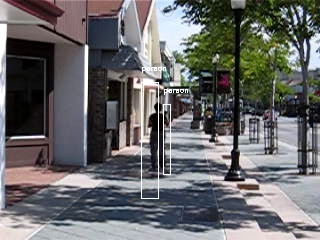person: (148, 104, 170, 172), (147, 104, 169, 172), (149, 104, 171, 172), (148, 103, 170, 171), (148, 105, 170, 173)
target_negative: (209, 13, 316, 140), (204, 167, 289, 235), (278, 165, 319, 210), (312, 35, 316, 134), (78, 227, 103, 239), (310, 93, 316, 141)
